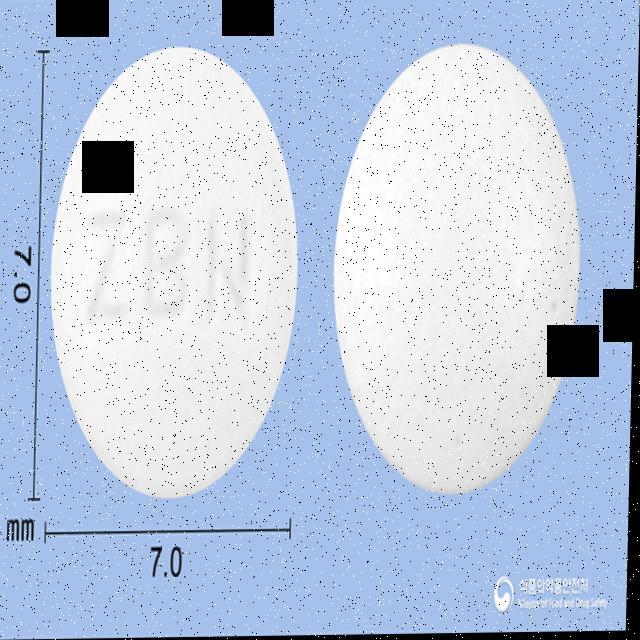Aclova: (47, 44, 304, 499), (332, 41, 587, 499)
